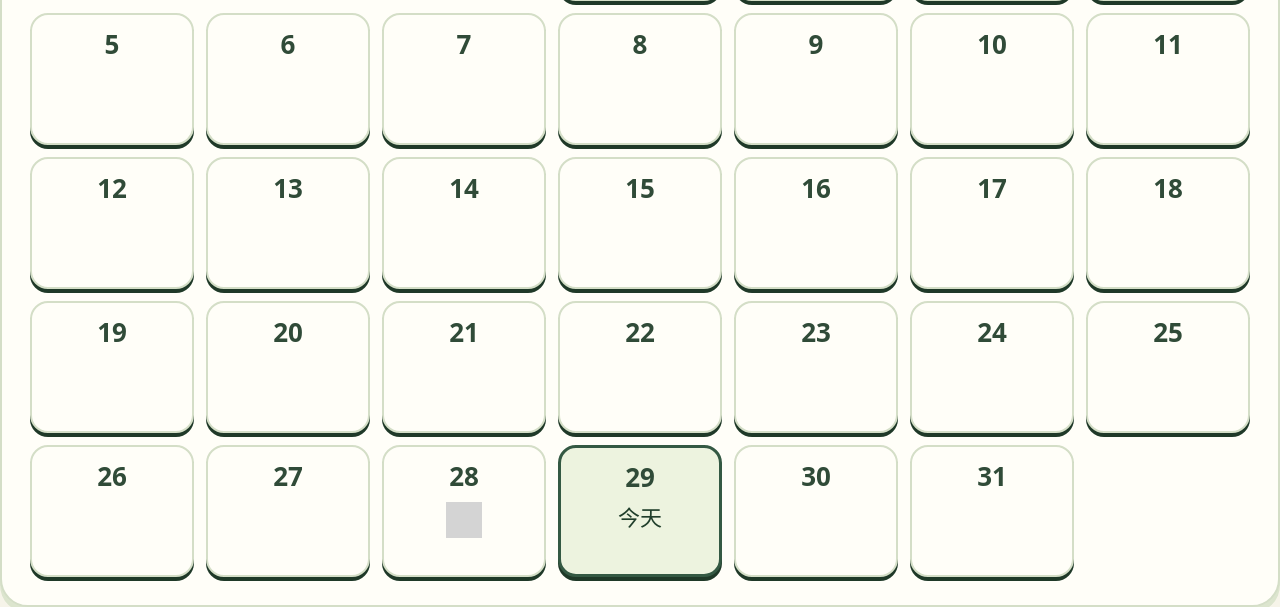
Scenario: 历史日期详情保留时间及附件线索，不展示奖励或普通编辑动作
(page scrolled)
Click the button named "2026-10-28" at (464, 511), box [382, 445, 546, 577]
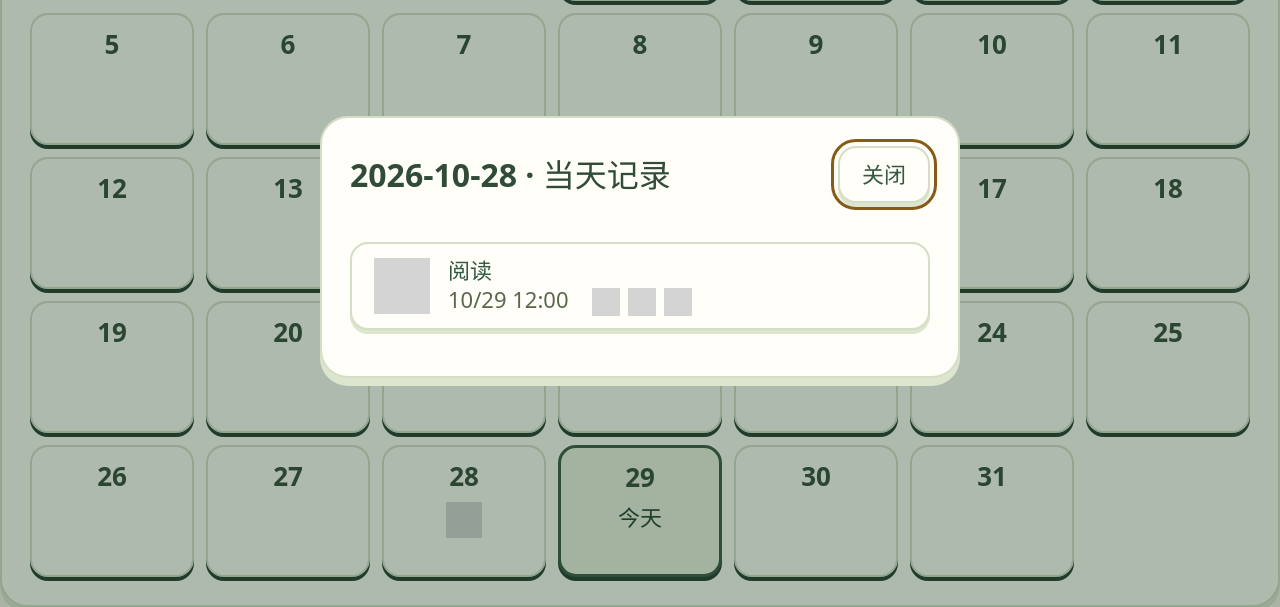
Click the button "阅读 10/29 12:00" at (640, 286), box [350, 242, 930, 330]
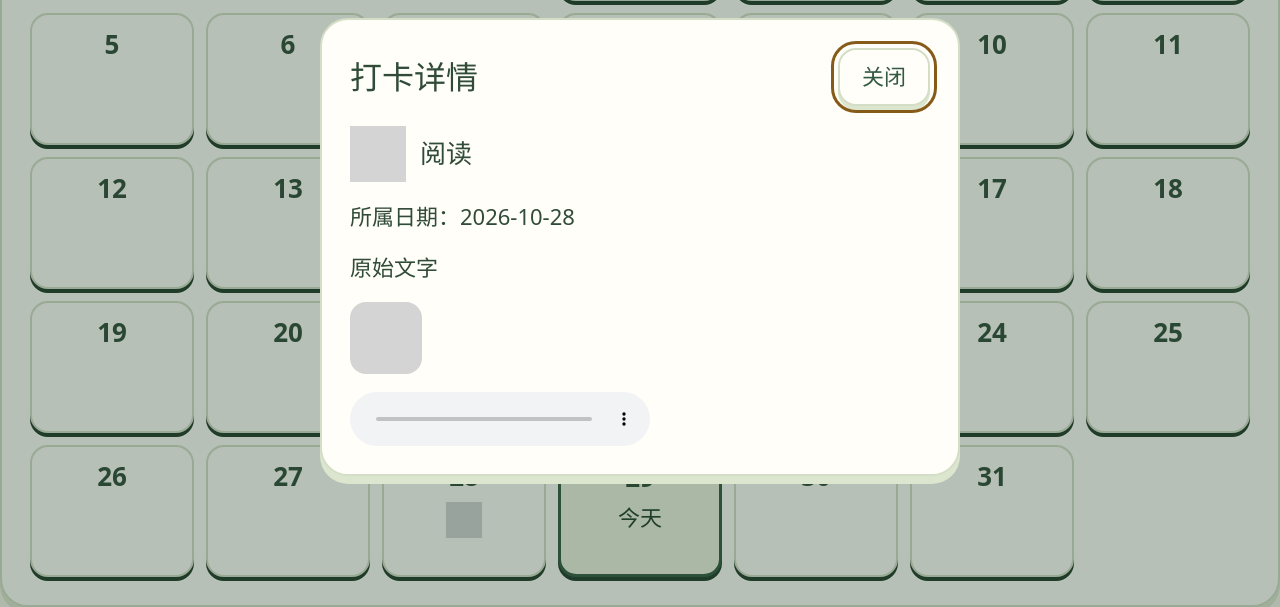
Check: the text "原始文字" is shown, box [350, 252, 438, 282]
